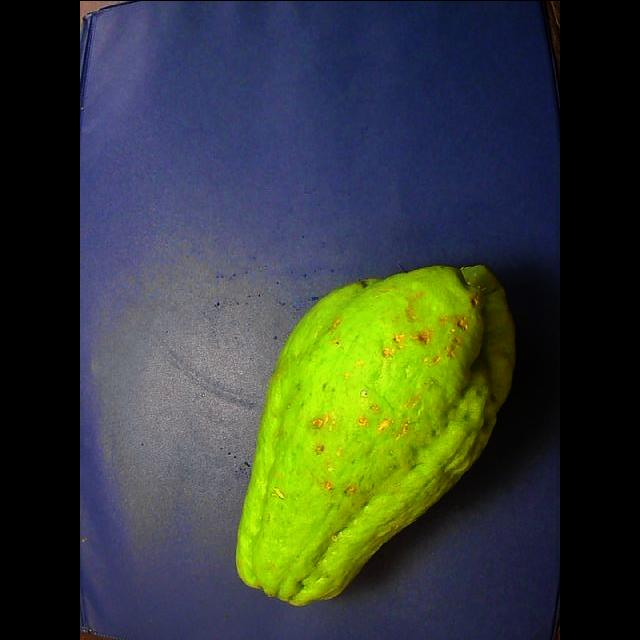chayote: (236, 265, 515, 605)
